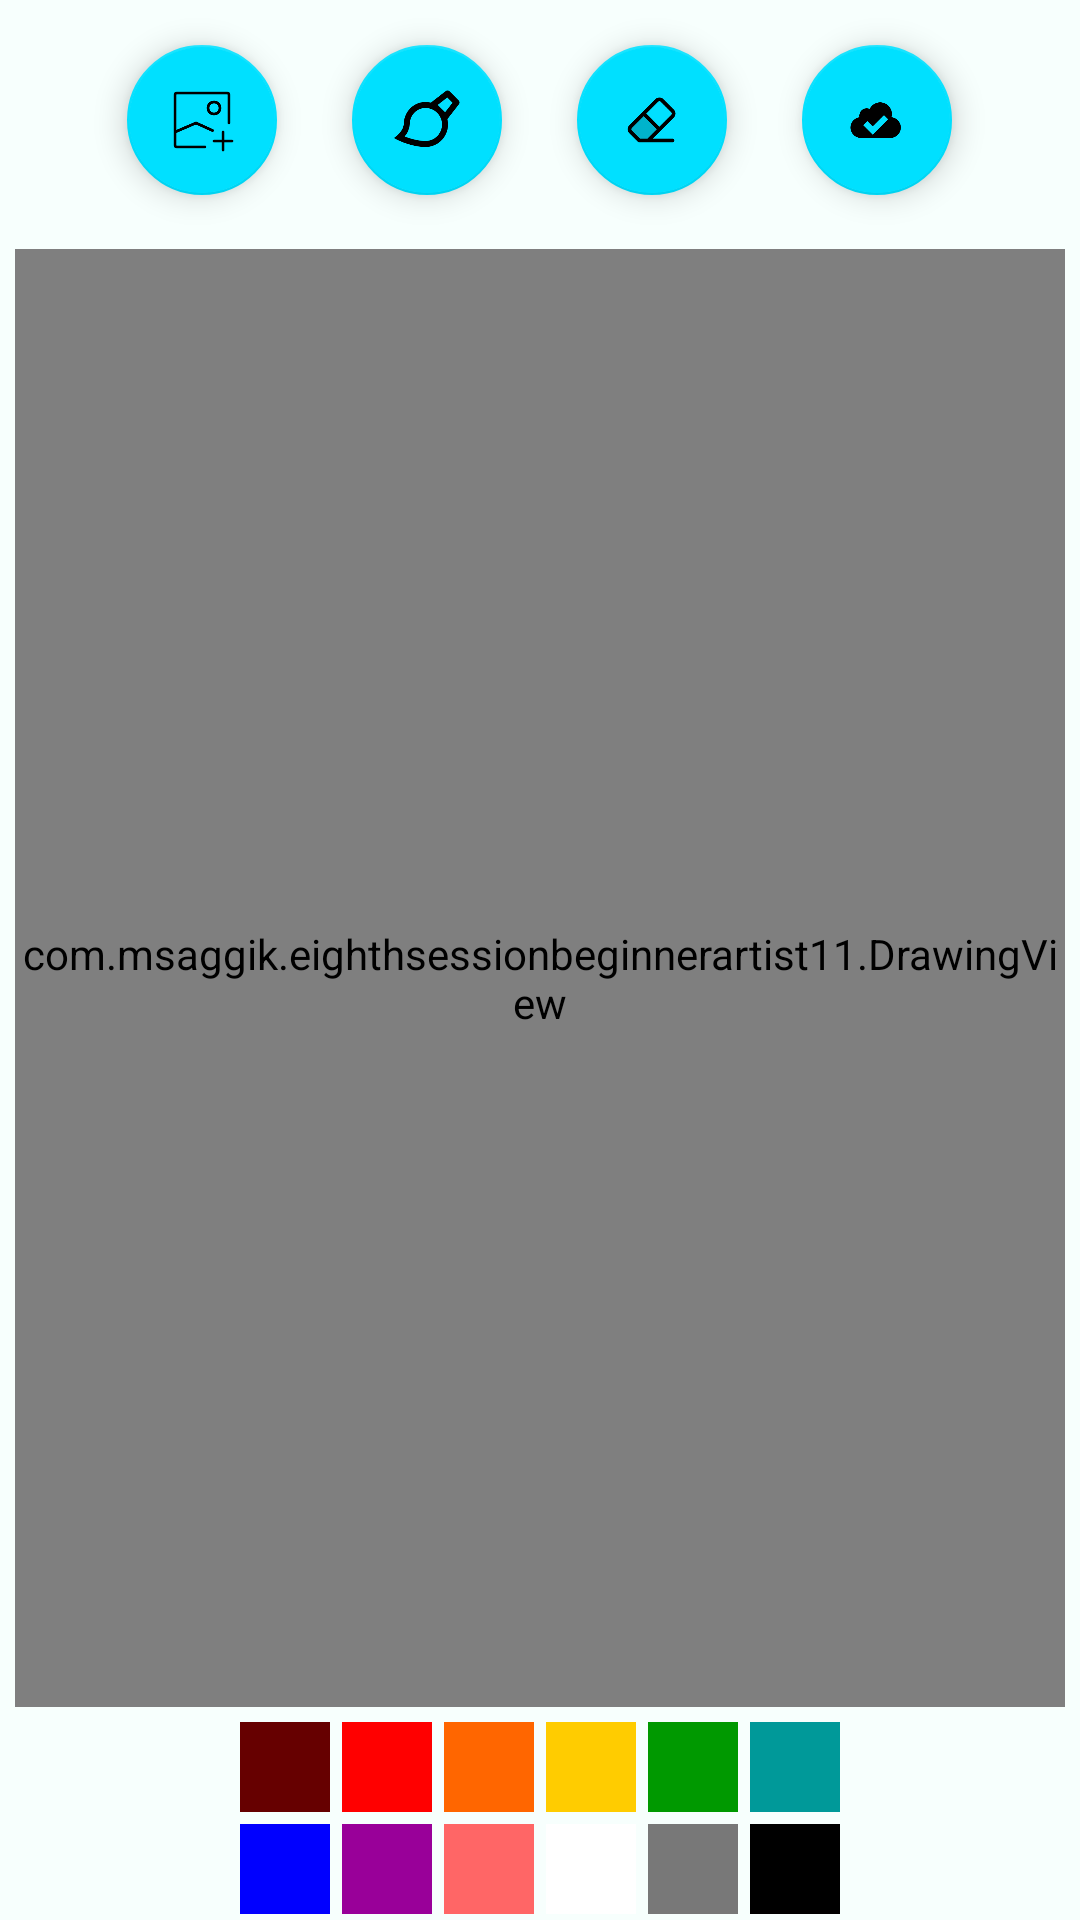

Where to tap for icons on this 1080px×1920px app screen, as point (x, y):
add: point (202, 120)
brush: point (427, 120)
erase: point (652, 120)
save: point (877, 120)
